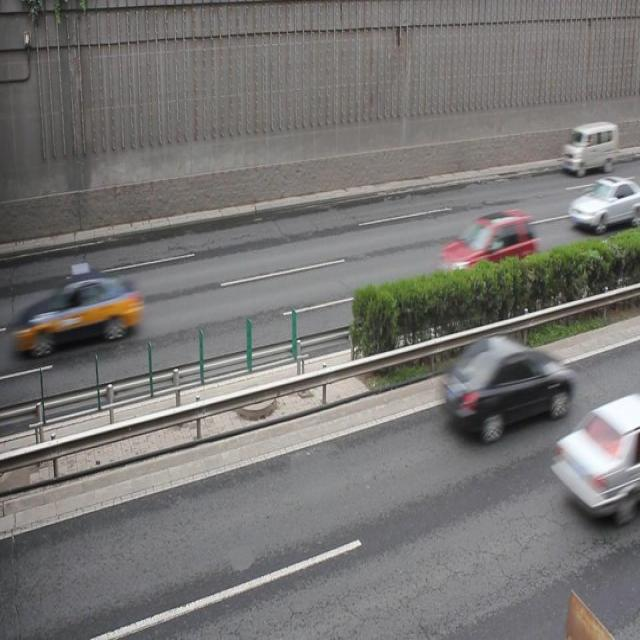car: (442, 333, 574, 437), (28, 267, 143, 352), (437, 208, 537, 293), (565, 177, 640, 227)
truck: (560, 123, 618, 170)
